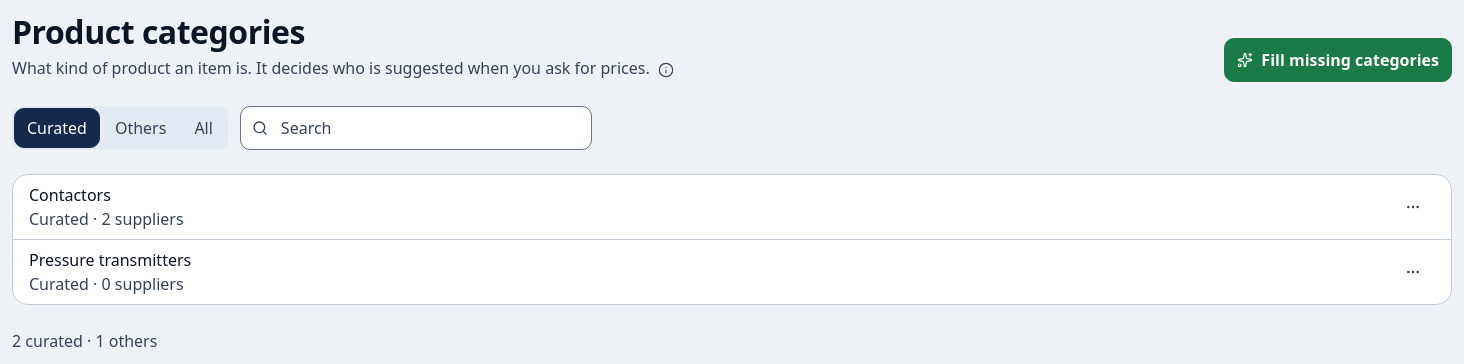
Test: Settings > Product categories › lists the curated categories with their suppliers, one green button, and the others on a tap
Expected: the list item "Contactors" shows "Curated · 2 suppliers", [13,175,1451,239]
Expected: the text "Old family" is not shown
Click the radio button labelled "Others" at (141, 128), box [102,108,179,148]
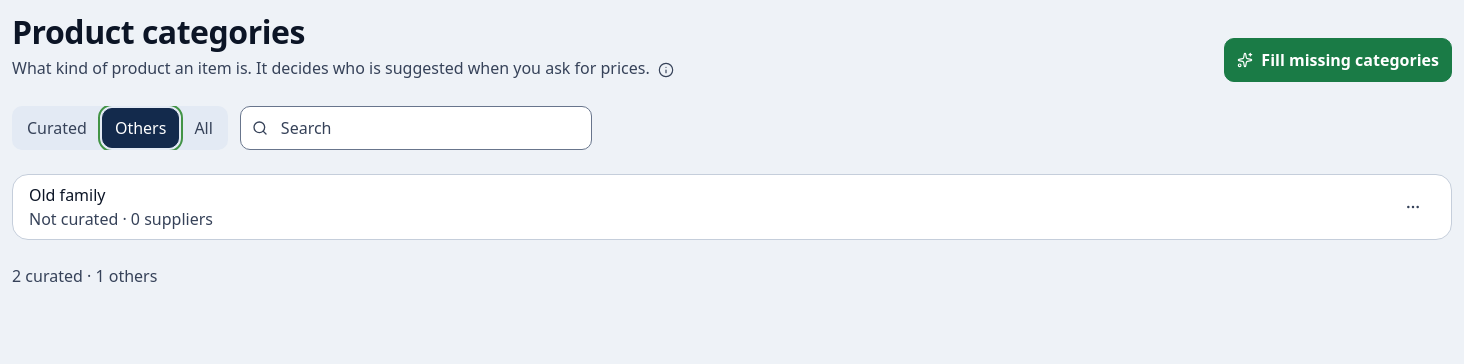
Now the text "Old family" is shown, box [29,184,106,206]
